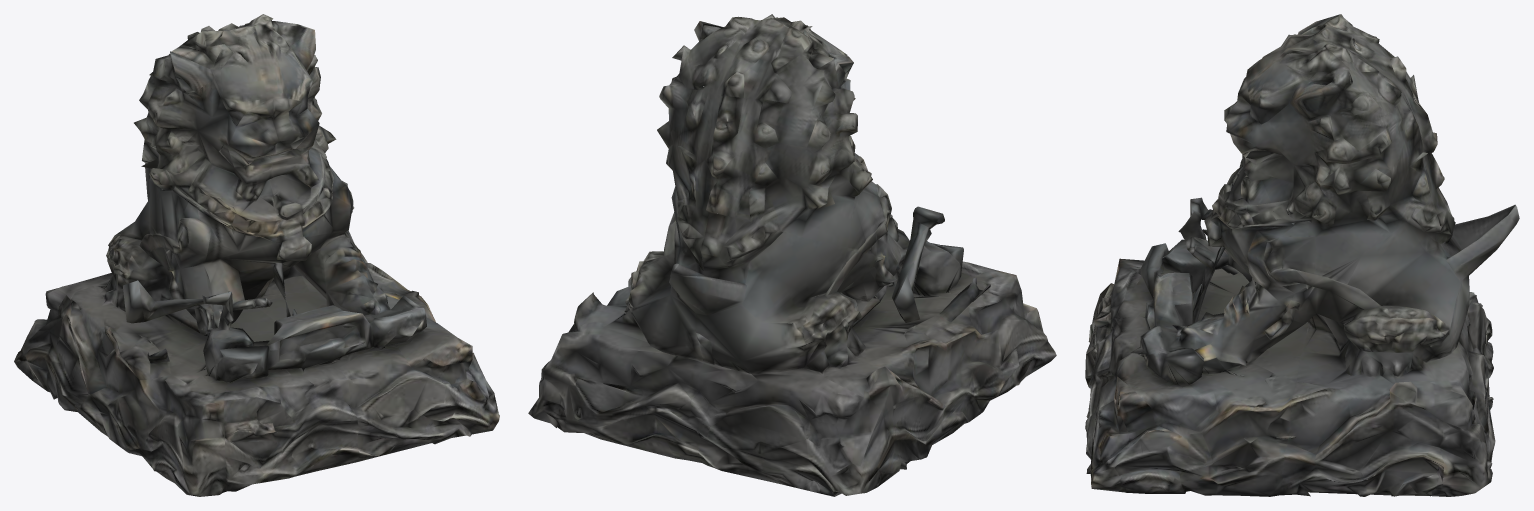
Rendered from guardian-lion.glb.
The picture shows the model from 3 angles, left to right: view 1: azimuth 30°, elevation 25°; view 2: azimuth 150°, elevation 25°; view 3: azimuth 270°, elevation 25°; orthographic projection. The views are drawn at different scales.
Size of the model in its own units: 0.8989 by 0.9535 by 0.9721.
Materials: 1 (1 with a texture image).
